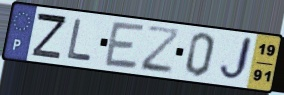0: (183, 31, 218, 80)
E: (102, 20, 147, 72)
J: (217, 35, 256, 84)
L: (66, 17, 95, 63)
Z: (139, 25, 182, 76), (30, 11, 69, 61)
